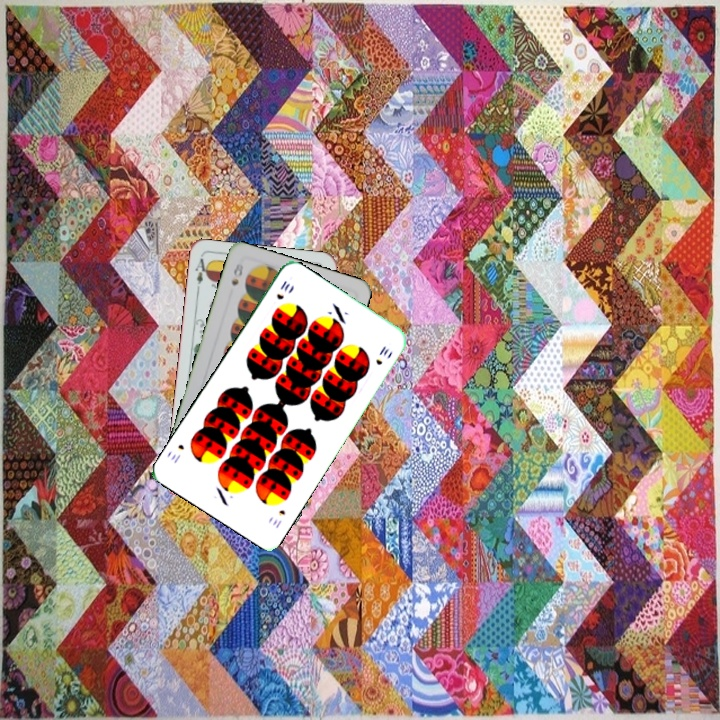EA: (191, 254, 211, 294)
S10: (272, 277, 293, 302), (268, 506, 288, 531)
S8: (227, 258, 246, 288)
